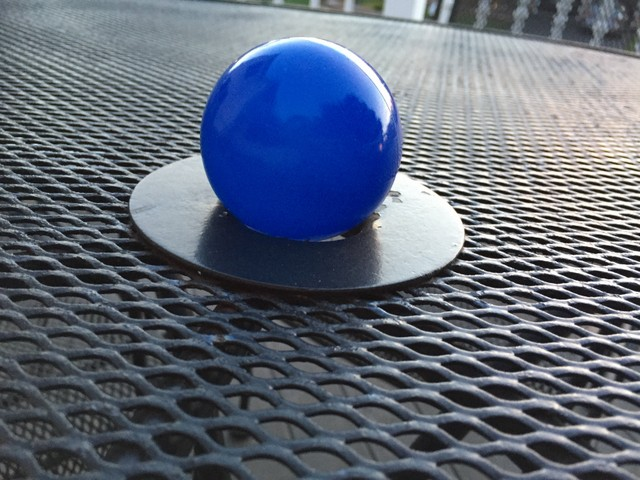Ball: (199, 38, 402, 241)
